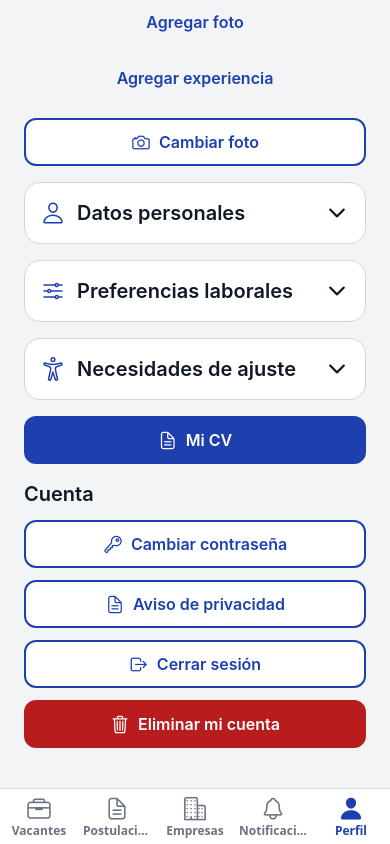
navegación por rol › cerrar sesión desde Perfil regresa a MOV-01
The image size is (390, 844).
(page scrolled)
Click the button "Cerrar sesión" at (195, 664), box x1=24 y1=640 x2=366 y2=688
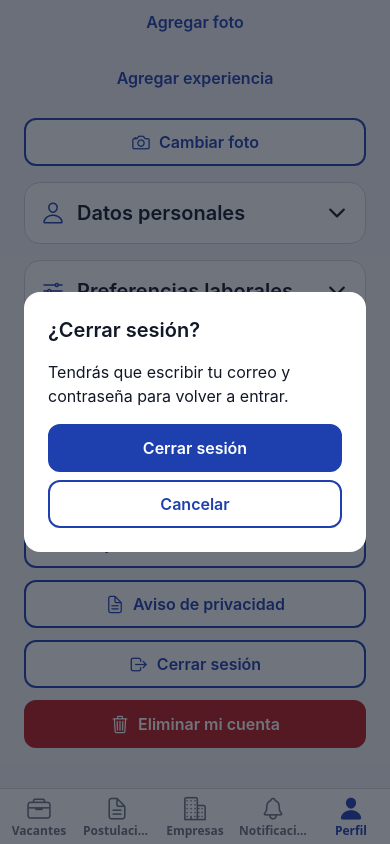
Click the button "Cerrar sesión" at (195, 448), box x1=48 y1=424 x2=342 y2=472
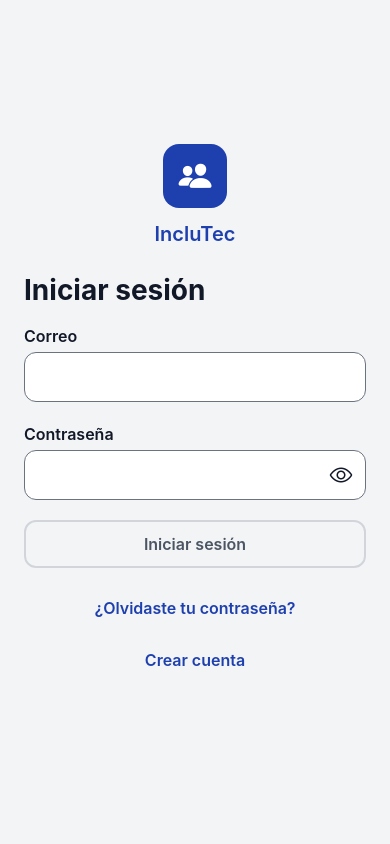
expect the button "Iniciar sesión" is shown: met, box x1=24 y1=520 x2=366 y2=568
